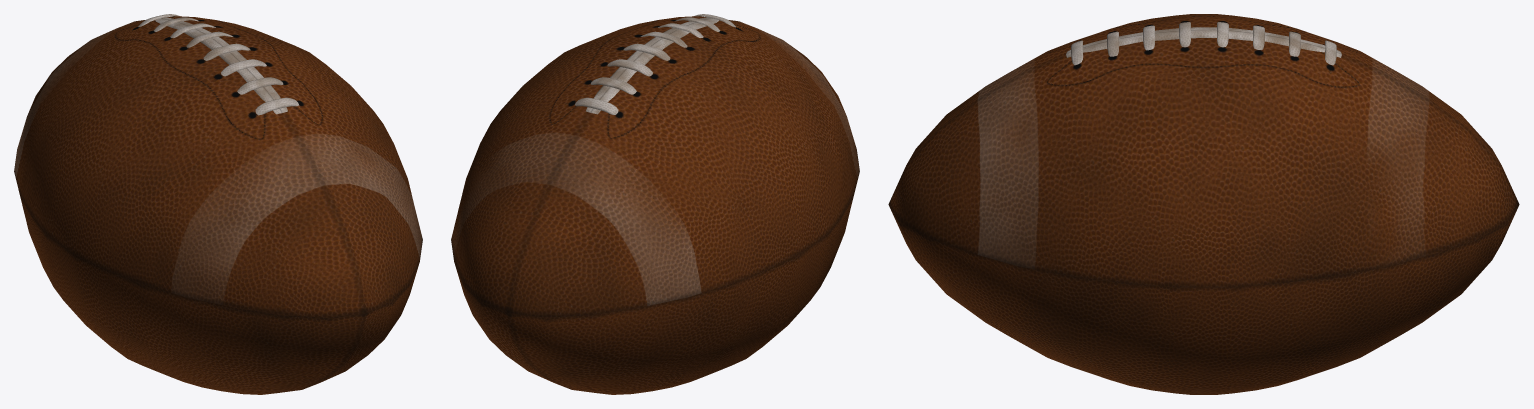
File: football_low_poly.obj
3 views of the same model, side by side, from view 1: azimuth 30°, elevation 25°; view 2: azimuth 150°, elevation 25°; view 3: azimuth 270°, elevation 25° (orthographic). The views are drawn at different scales.
Visible parts, largest first — view 1: football_low_poly; view 2: football_low_poly; view 3: football_low_poly.
Part boxes in pixels (box(x1,y1,x2,y2)): football_low_poly: box(14, 14, 422, 394); football_low_poly: box(451, 14, 859, 394); football_low_poly: box(888, 14, 1519, 394).
Bounding box in the file's own units: 0.0603 × 0.0592 × 0.0969.
